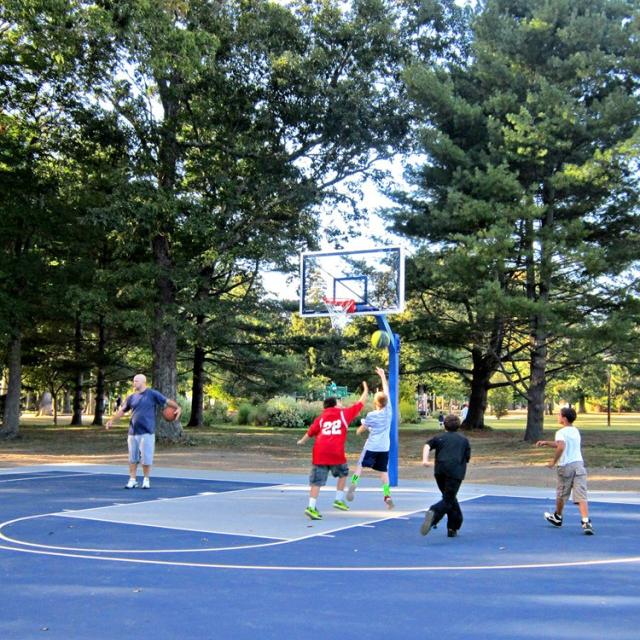basketball: (164, 406, 177, 419)
hoop: (324, 297, 357, 330)
